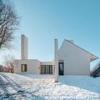chimneys: (21, 34, 27, 60)
